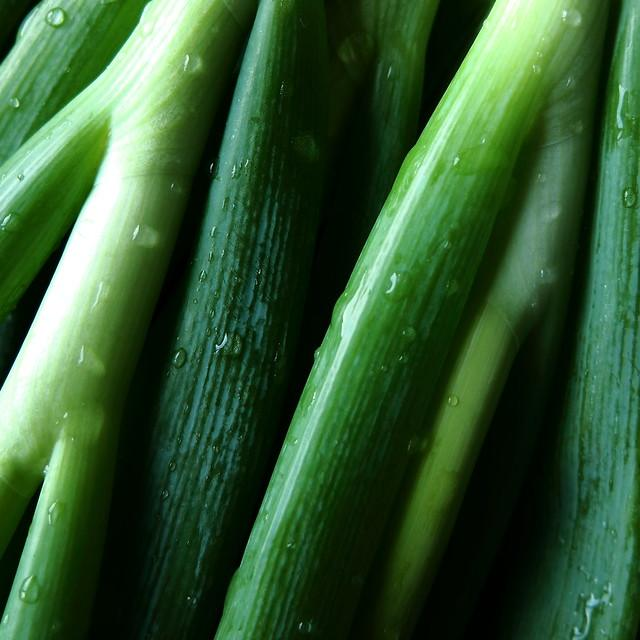green_onion: (214, 0, 597, 640), (0, 0, 257, 640), (91, 0, 328, 640)
